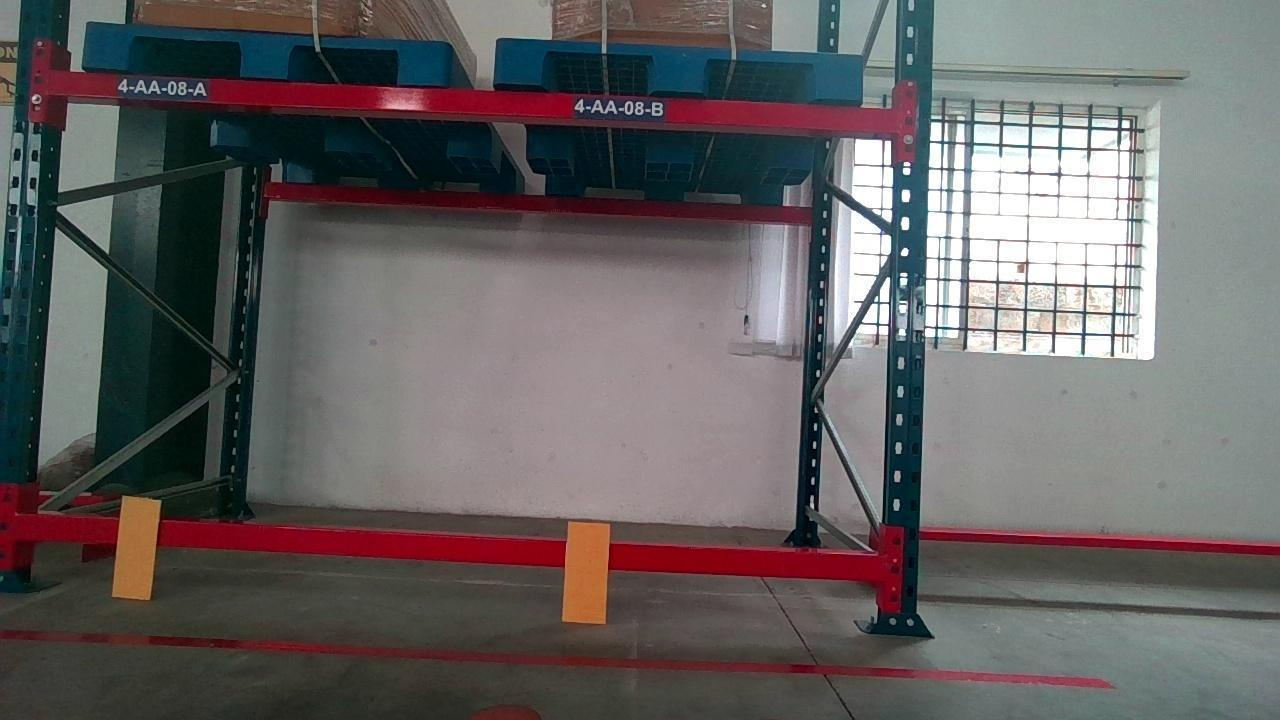h_rack: (7, 519, 889, 577), (53, 76, 895, 126)
orange_strip: (562, 520, 609, 622), (111, 495, 158, 597)
small_pallet: (498, 41, 865, 96), (88, 29, 445, 78)
